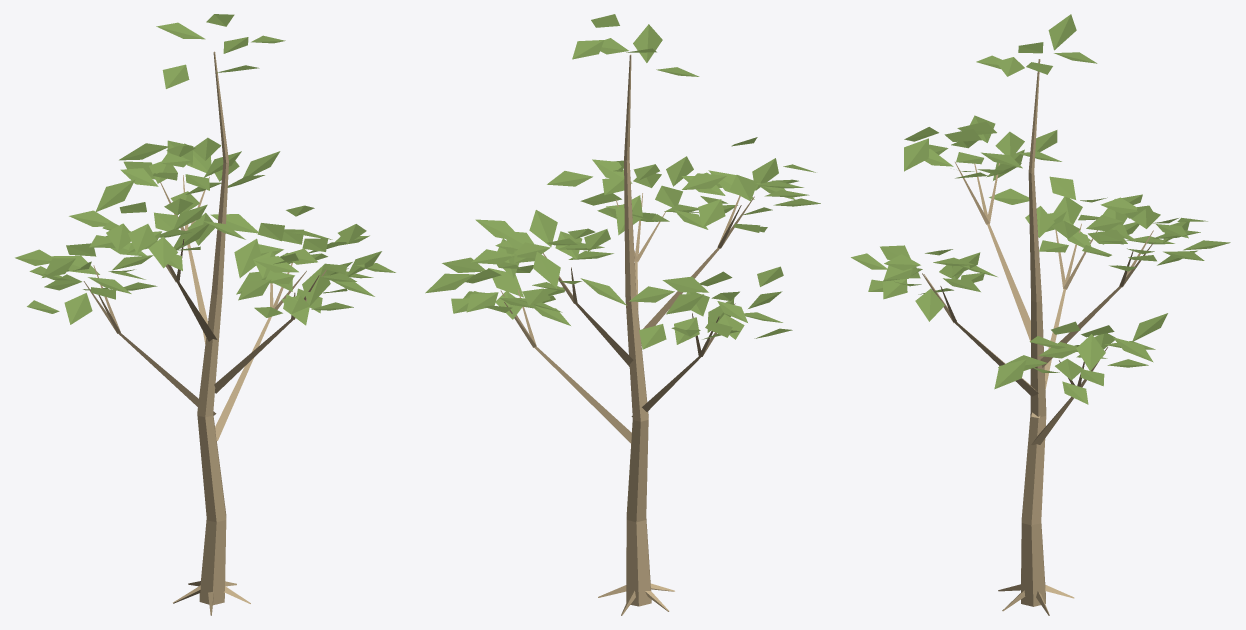
File: birch-sapling-lod1.glb
The picture shows the model from 3 angles, left to right: view 1: azimuth 30°, elevation 25°; view 2: azimuth 150°, elevation 25°; view 3: azimuth 270°, elevation 25°; orthographic projection.
Parts seen in each view (by area): view 1: understory_birch-sapling_LOD1; view 2: understory_birch-sapling_LOD1; view 3: understory_birch-sapling_LOD1.
Boxes of the visible parts, <box> form: understory_birch-sapling_LOD1: <box>15,14,395,615</box>; understory_birch-sapling_LOD1: <box>425,14,820,615</box>; understory_birch-sapling_LOD1: <box>851,14,1230,615</box>.
Size of the model in its own units: 1.59 by 2.49 by 1.51.
